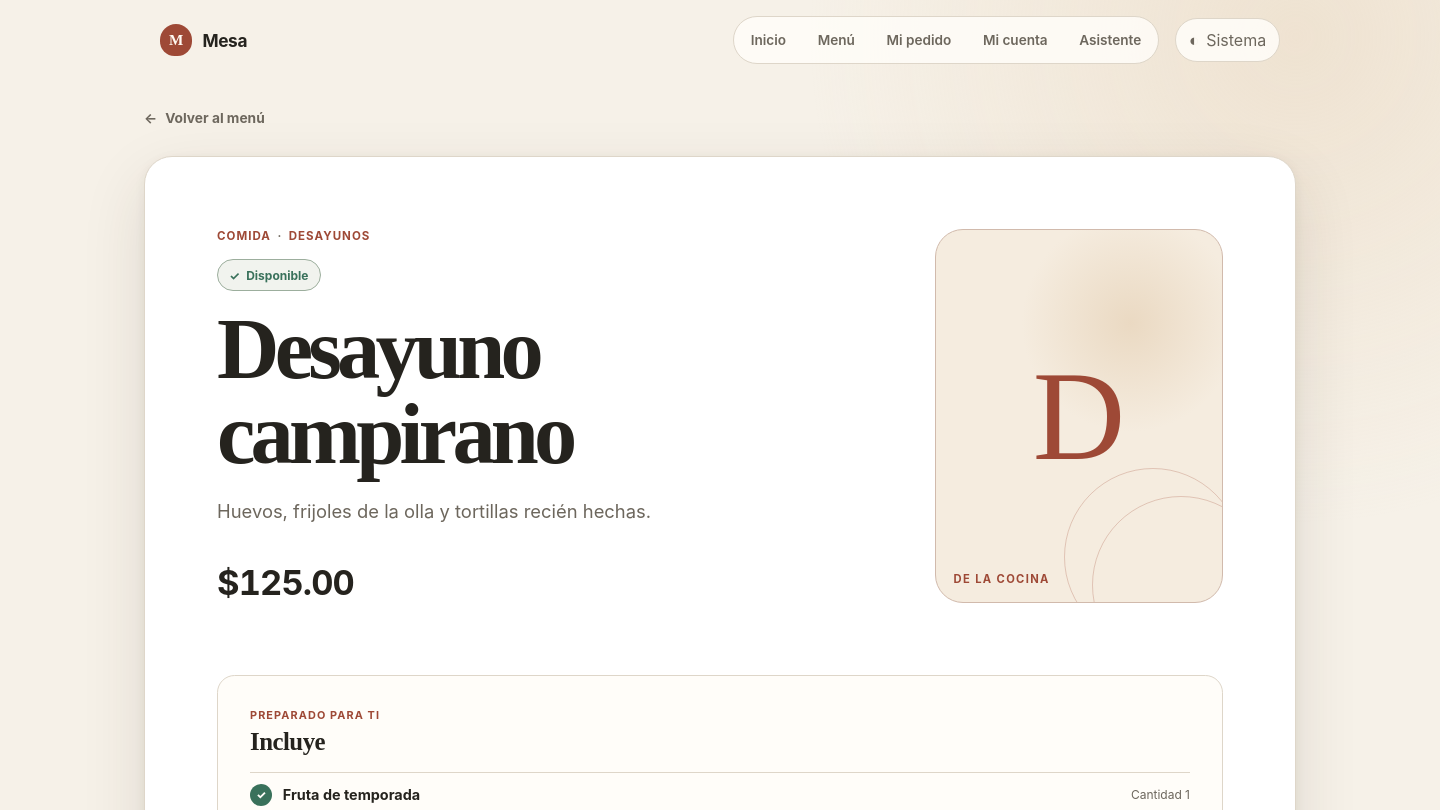
Test: product detail › returns to Menu through the explicit navigation action
This screenshot has width=1440, height=810.
Click the link "← Volver al menú".
click(204, 118)  # box [144,110,265,126]
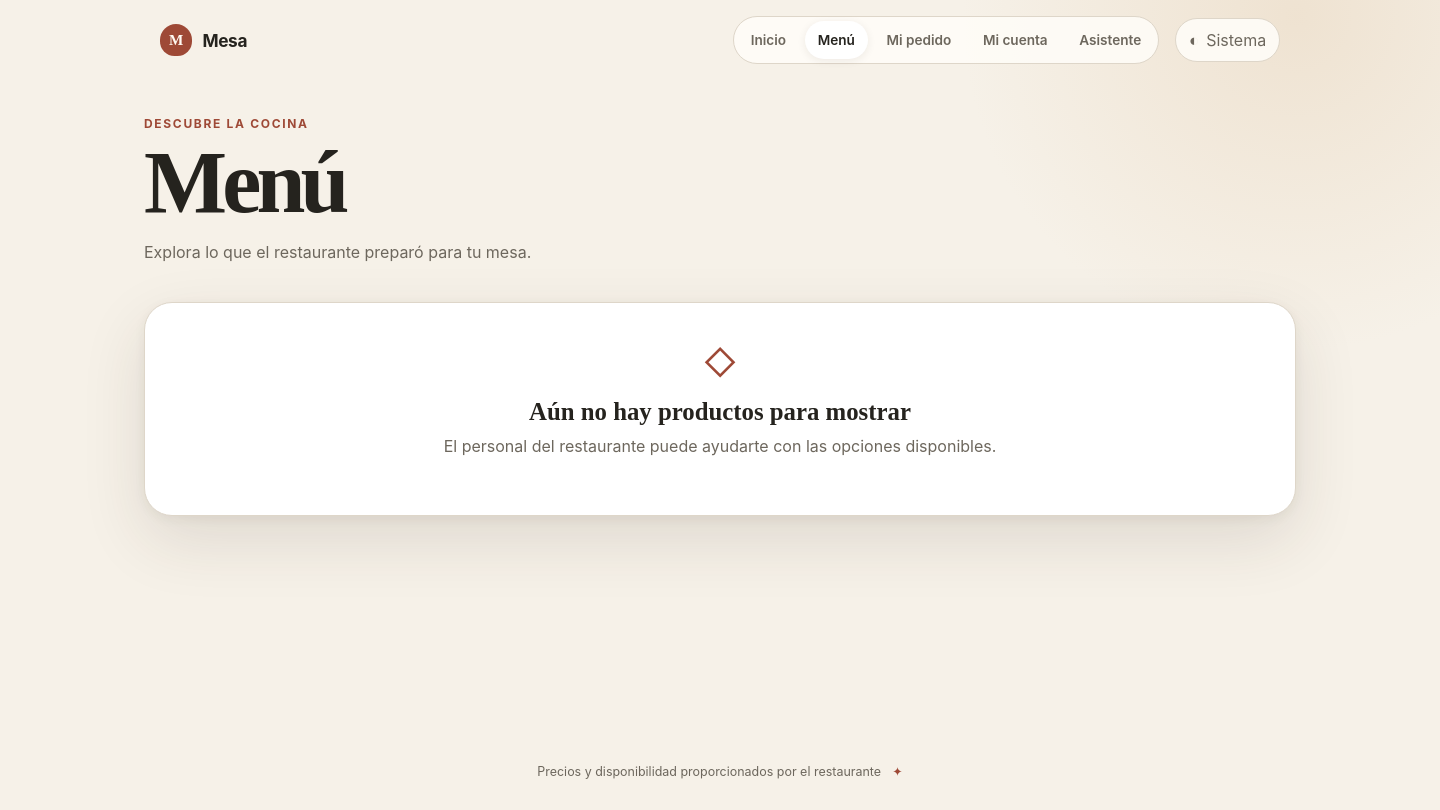
expect the heading "Menú" is shown: met, box [144,134,345,231]
